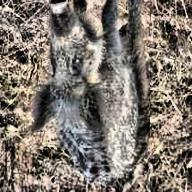boar: (23, 7, 176, 186)
